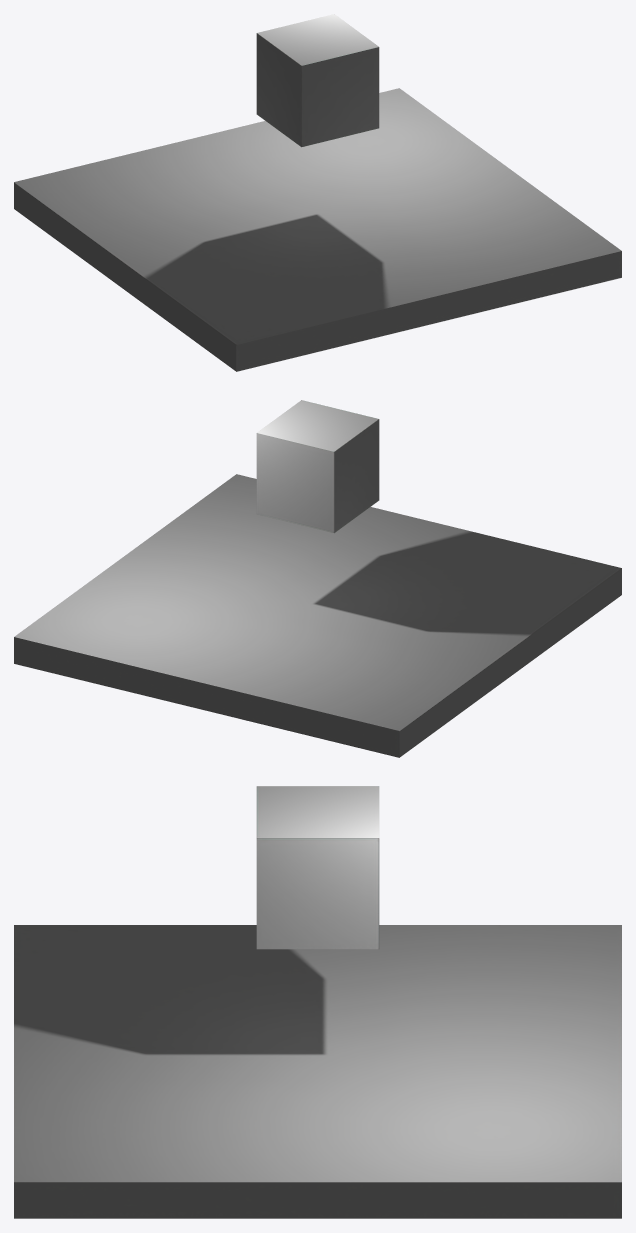
File: block.glb
The picture shows the model from 3 angles, top to bottom: view 1: azimuth 30°, elevation 25°; view 2: azimuth 150°, elevation 25°; view 3: azimuth 270°, elevation 25°; orthographic projection. The views are drawn at different scales.
Visible parts, largest first — view 1: Cube; view 2: Cube; view 3: Cube.
Part boxes in pixels (x1=…): Cube: x1=14, y1=14, x2=621, y2=371; Cube: x1=14, y1=400, x2=621, y2=757; Cube: x1=14, y1=786, x2=621, y2=1218.
Bounding box in the file's own units: 9.91 × 5 × 9.91.
1 material, 1 textured.
